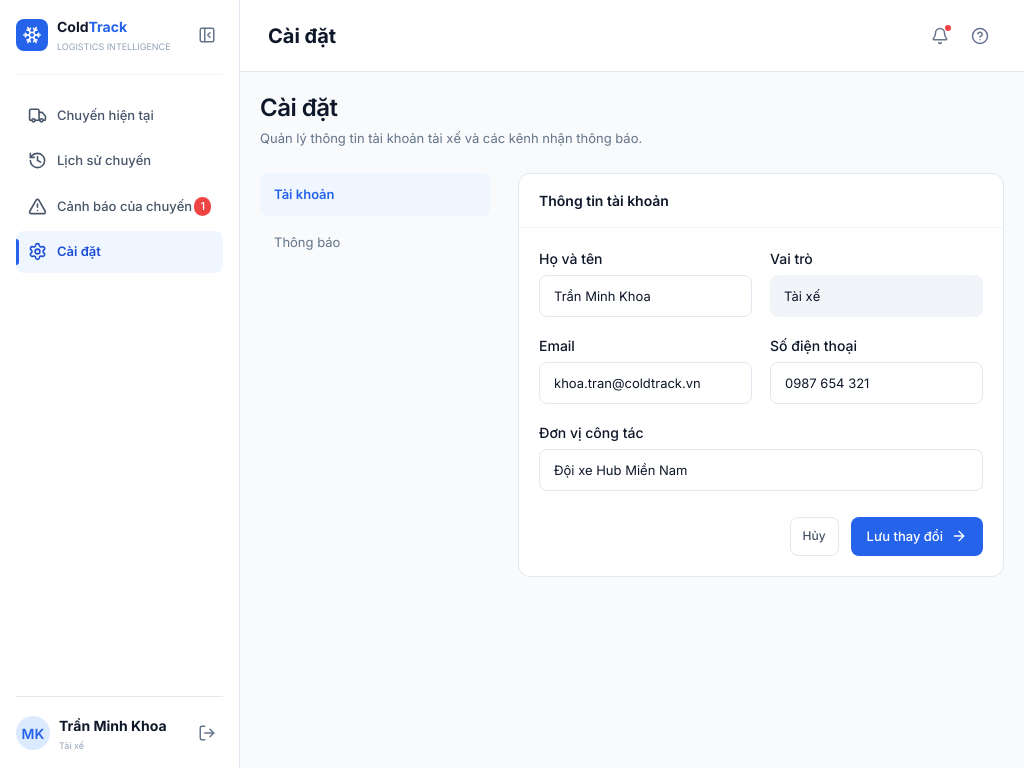
Test: B4 driver screens › shows only account/notification settings and keeps driver role read-only
expect the heading "Thông tin tài khoản" is shown: met, box x1=539 y1=190 x2=669 y2=211
expect the number of tabs is 2: met, box x1=260 y1=173 x2=490 y2=216; x1=260 y1=221 x2=490 y2=265
Replace the text in the field labelled "Họ và tên" with "Tài xế cập nhật". click: (646, 296)
box: x1=539 y1=275 x2=752 y2=317
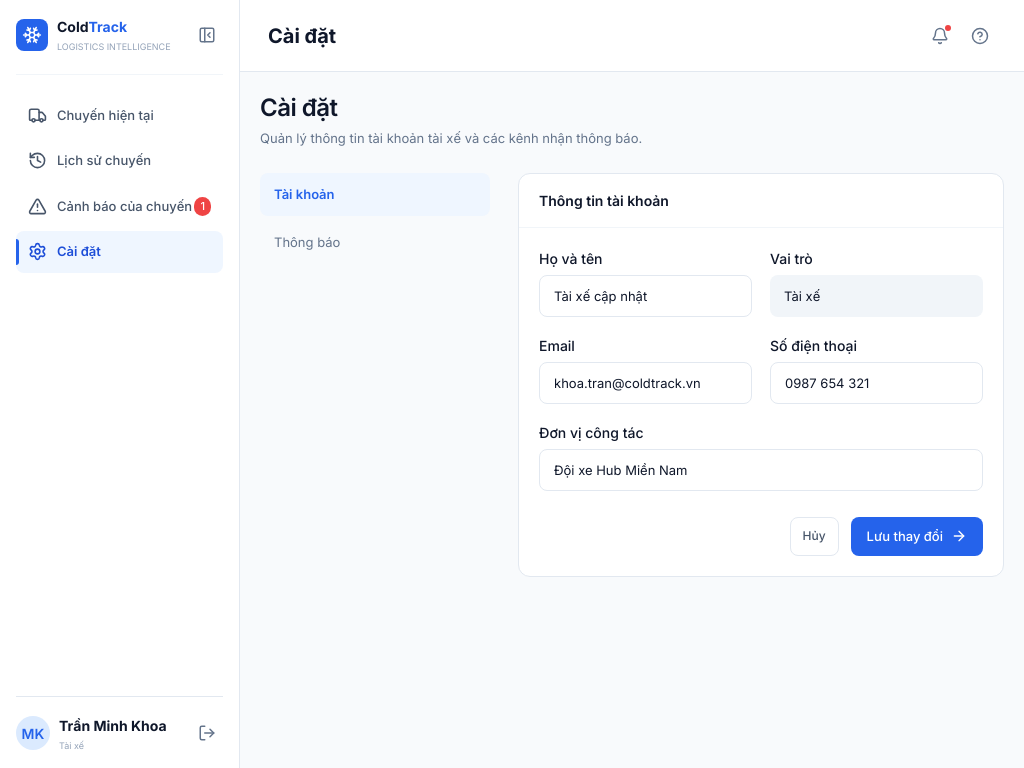
Click the button "Lưu thay đổi". click: click(917, 536)
box: x1=851 y1=517 x2=983 y2=556
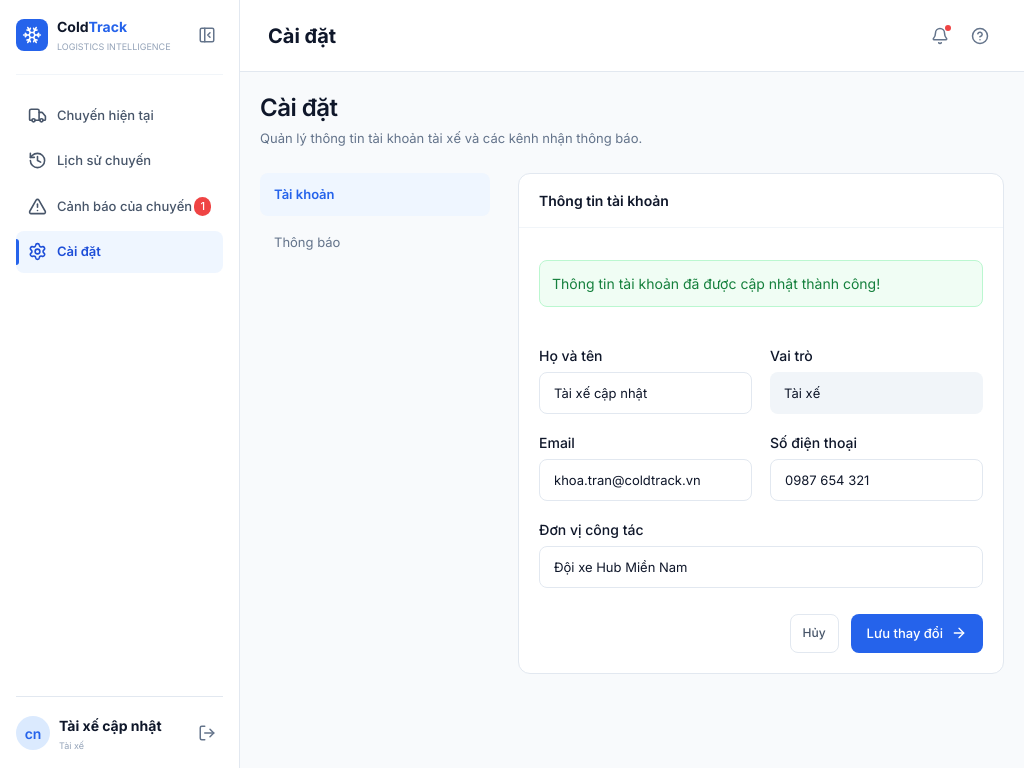
expect the text "Thông tin tài khoản đã được cập nhật thành công!" is shown: met, box x1=539 y1=260 x2=983 y2=307
expect the text "Tài xế cập nhật" is shown: met, box x1=59 y1=716 x2=162 y2=734
